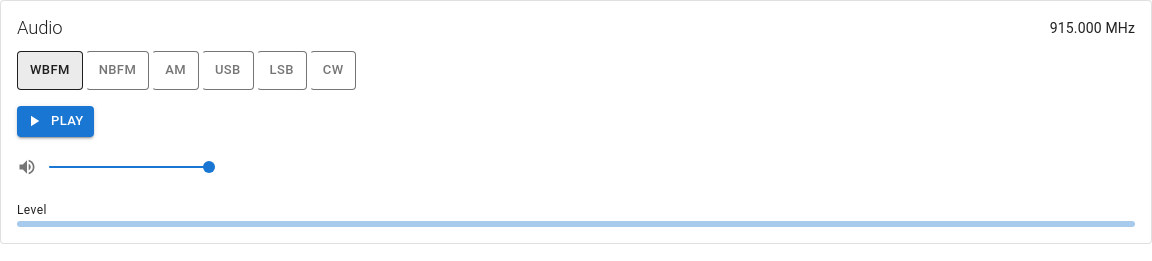
Scenario: AudioPlayer with a tuned frequency › Stop halts the stream player
Click the button "Play" at (55, 121), box [17,106,94,137]
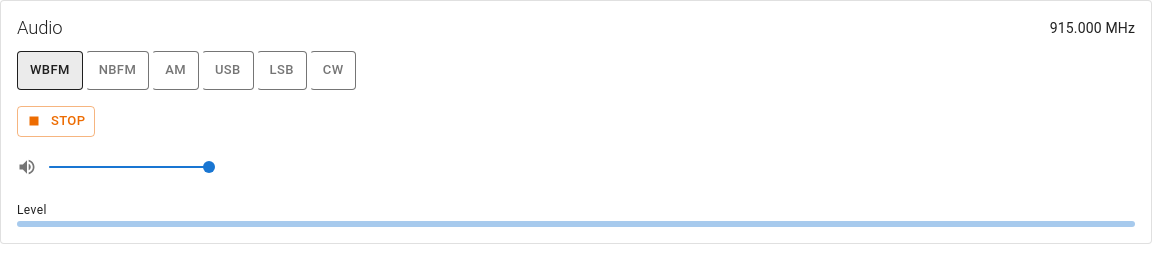
Click the button "Stop" at (56, 121), box [17,106,95,137]
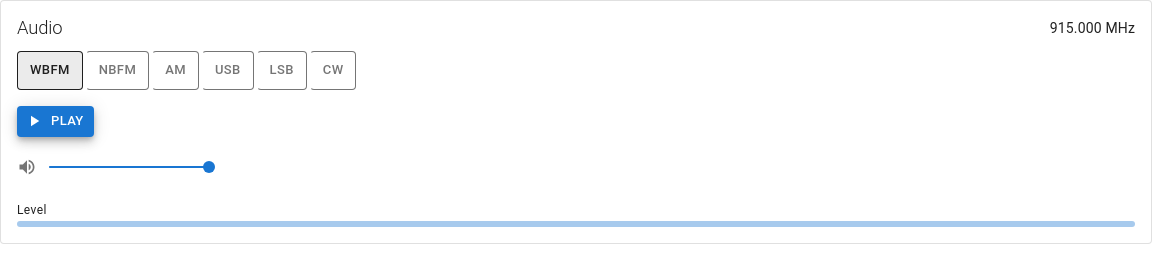
Expected: the button "Play" is shown, [17,106,94,137]
